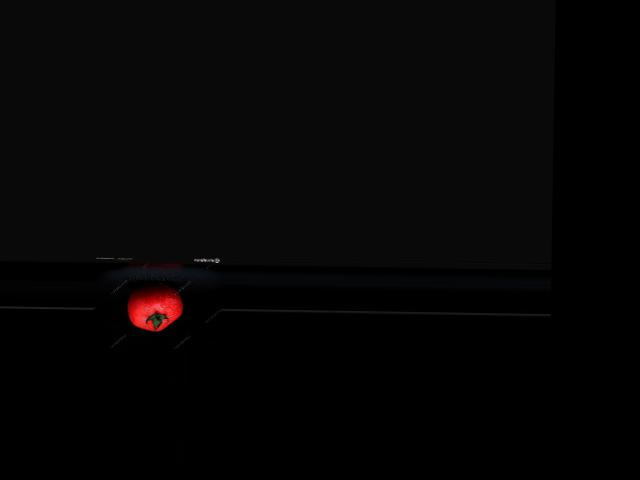tomato: (126, 282, 183, 332)
